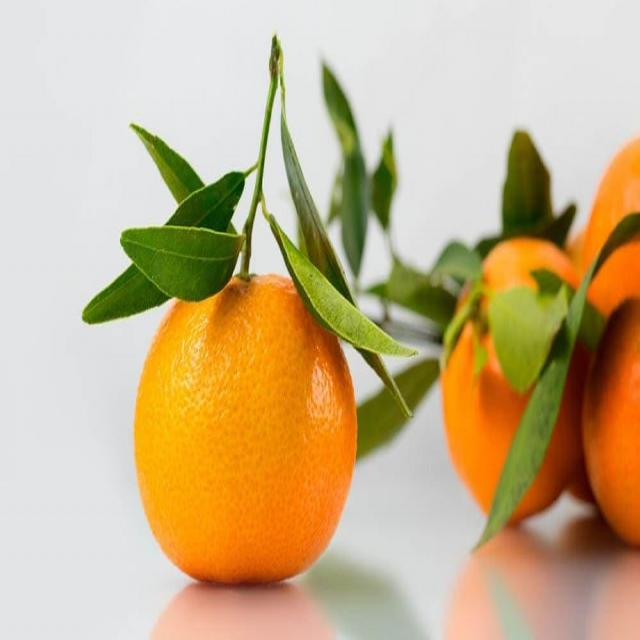10_tangerine: (126, 253, 366, 584), (439, 233, 588, 524), (585, 287, 640, 551)
